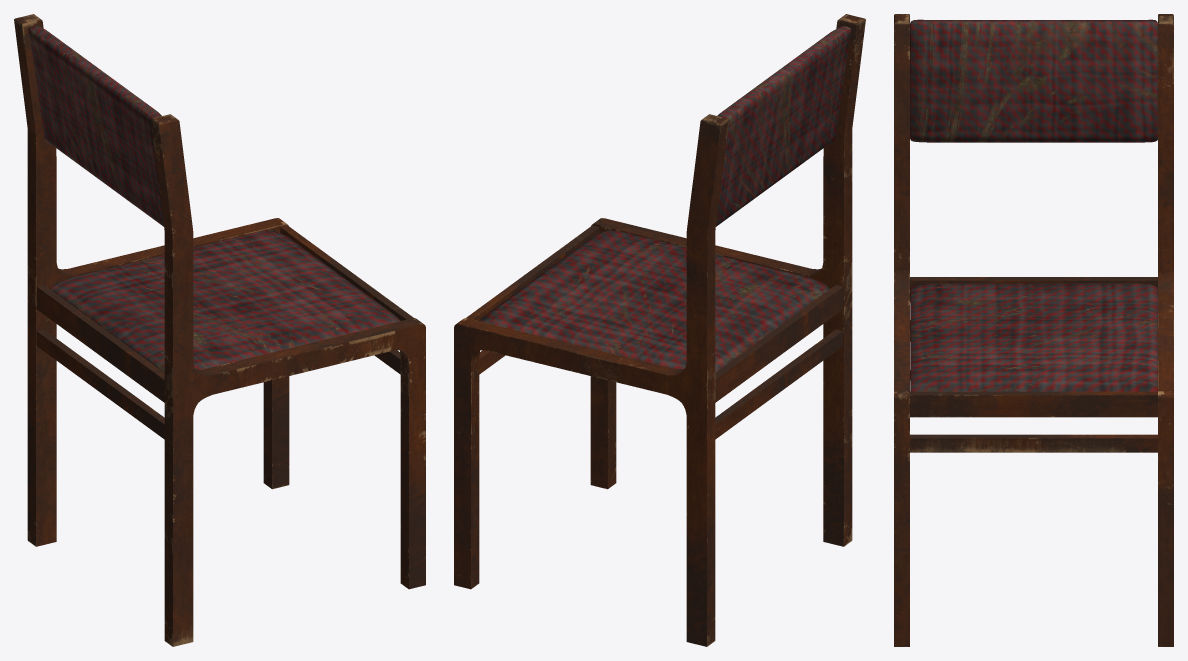
File: obj_chair_teacher_460d3e.glb
The picture shows the model from 3 angles, left to right: view 1: azimuth 30°, elevation 25°; view 2: azimuth 150°, elevation 25°; view 3: azimuth 270°, elevation 25°; orthographic projection. The views are drawn at different scales.
Parts seen in each view (by area): view 1: obj_chair_teacher_460d3e; view 2: obj_chair_teacher_460d3e; view 3: obj_chair_teacher_460d3e.
Part boxes in pixels (<box>): obj_chair_teacher_460d3e: <box>14,14,425,646</box>; obj_chair_teacher_460d3e: <box>454,14,865,646</box>; obj_chair_teacher_460d3e: <box>894,14,1173,646</box>.
Bounding box in the file's own units: 0.4509 × 0.85 × 0.4245.
1 material, 1 textured.
